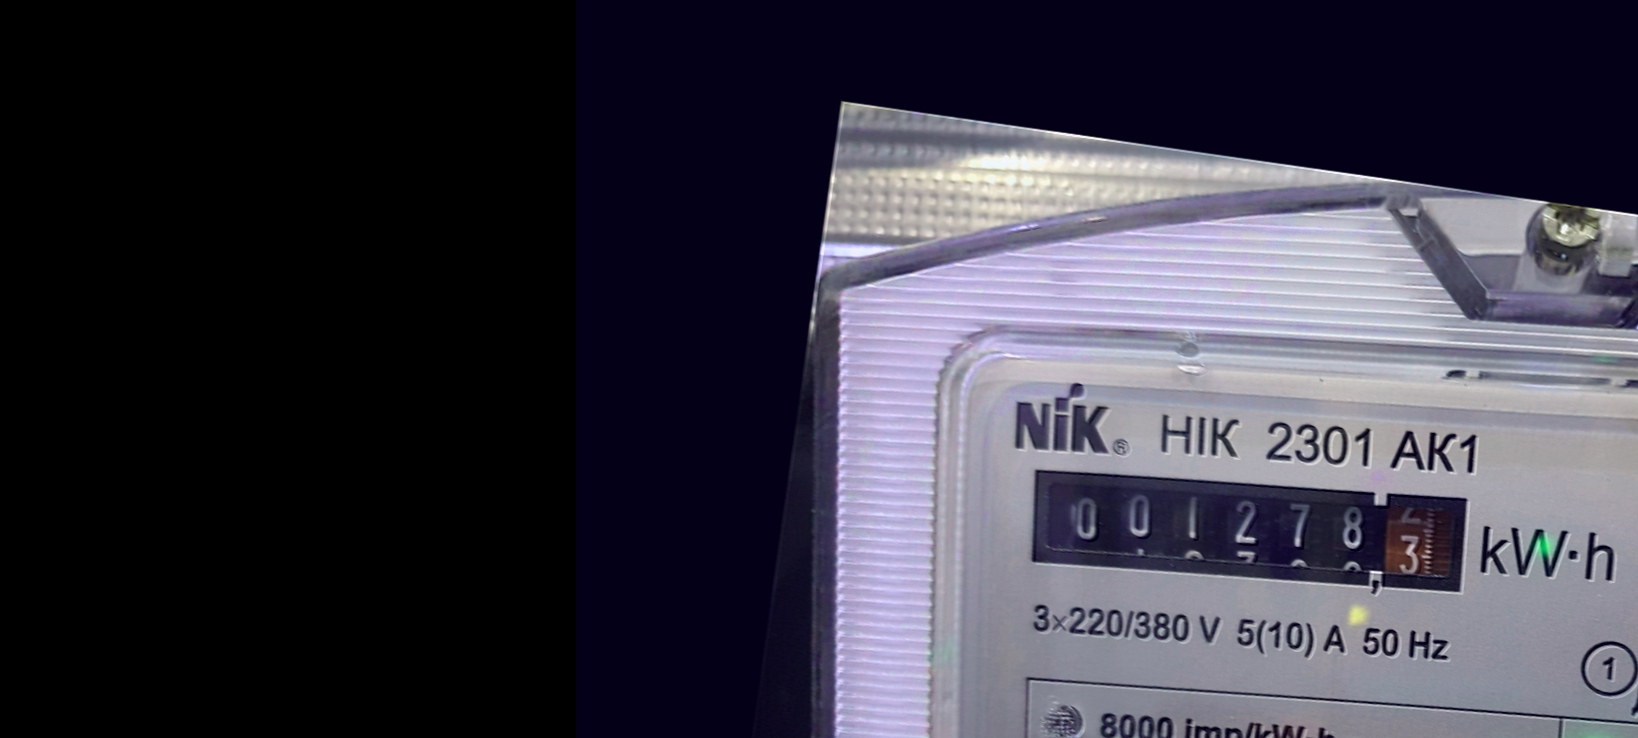0: (1072, 493, 1105, 544), (1124, 491, 1156, 541)
1: (1181, 493, 1207, 541)
2: (1231, 498, 1263, 548), (1399, 505, 1425, 527)
3: (1394, 532, 1426, 579)
7: (1284, 501, 1312, 550)
8: (1339, 505, 1368, 552)
screen: (1008, 425, 1493, 637)
